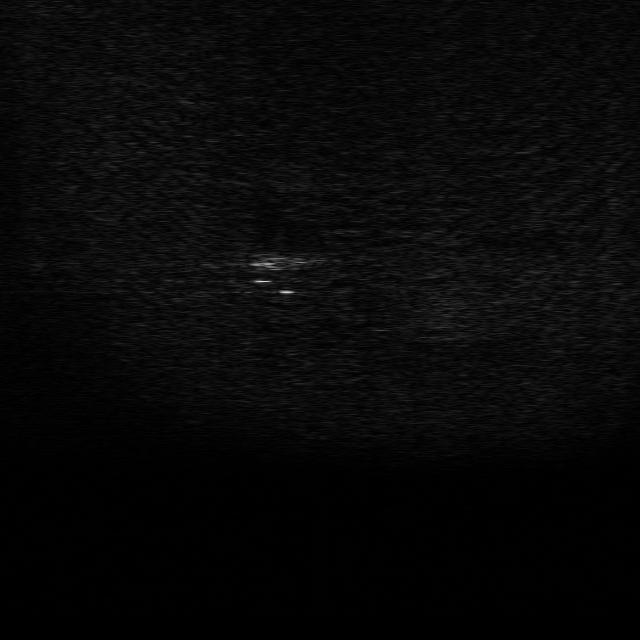plane: (244, 248, 326, 296)
